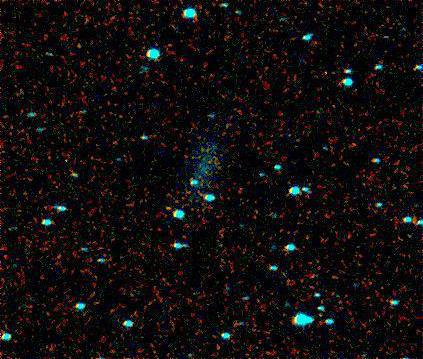star: (154, 192, 184, 222)
